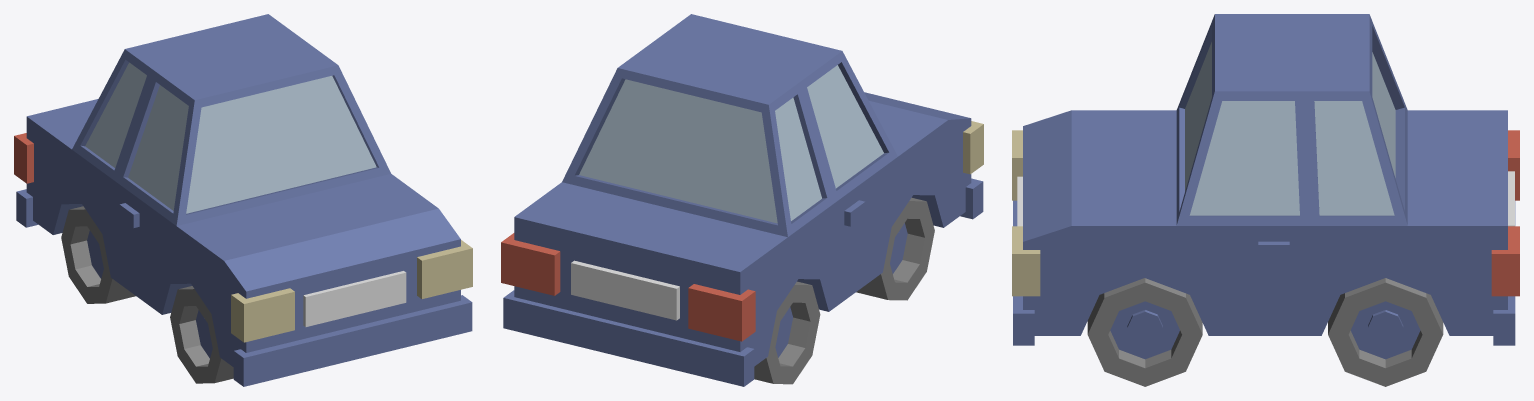
The model's file is Car.fbx.
3 renders of one model, left to right at view 1: azimuth 30°, elevation 25°; view 2: azimuth 150°, elevation 25°; view 3: azimuth 270°, elevation 25°, orthographic. The views are drawn at different scales.
Visible parts, largest first — view 1: Car, Wheels rear, Wheels front; view 2: Car, Wheels front, Wheels rear; view 3: Car, Wheels rear, Wheels front.
Boxes of the visible parts, <box> form: Car: <box>14,14,472,386</box>; Wheels rear: <box>61,206,135,303</box>; Wheels front: <box>170,286,233,383</box>; Car: <box>501,14,983,386</box>; Wheels front: <box>856,197,934,300</box>; Wheels rear: <box>754,281,820,384</box>; Car: <box>1012,14,1519,345</box>; Wheels rear: <box>1328,278,1443,386</box>; Wheels front: <box>1087,278,1202,386</box>.
Size of the model in its own units: 241 by 254 by 419.
